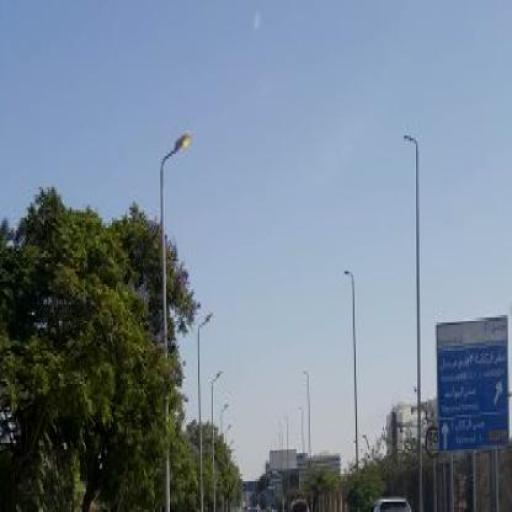street light: (158, 130, 192, 510), (401, 130, 424, 510), (342, 270, 360, 492), (197, 312, 213, 500)
